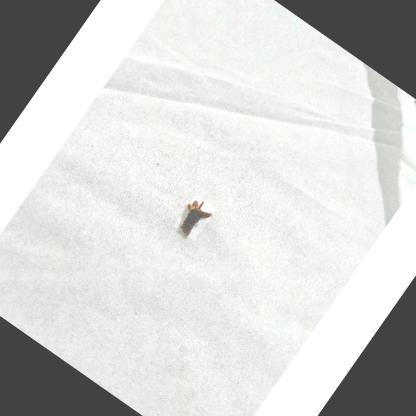buruk: (181, 200, 211, 236)
